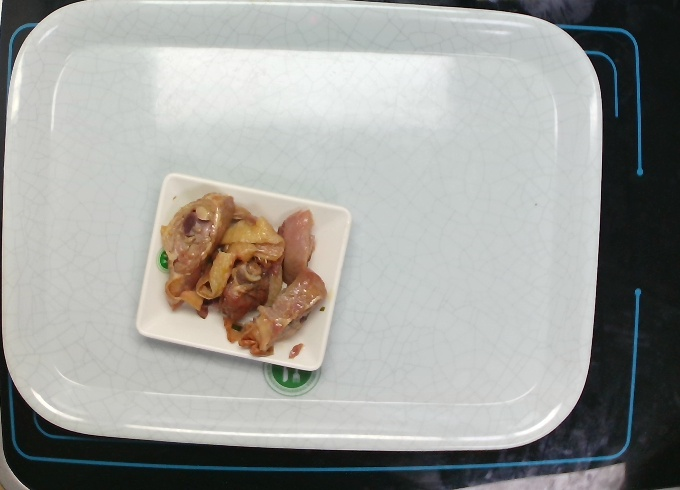WCQzf-Bai_Se_Si_Fang_Die: (134, 165, 357, 376)
